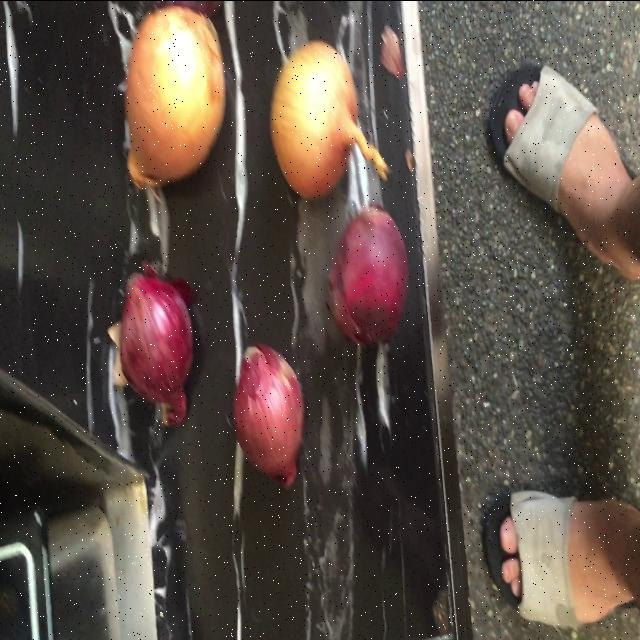Onion: (271, 40, 389, 197), (125, 5, 225, 187), (108, 268, 192, 426), (329, 206, 408, 345), (234, 344, 304, 489)
